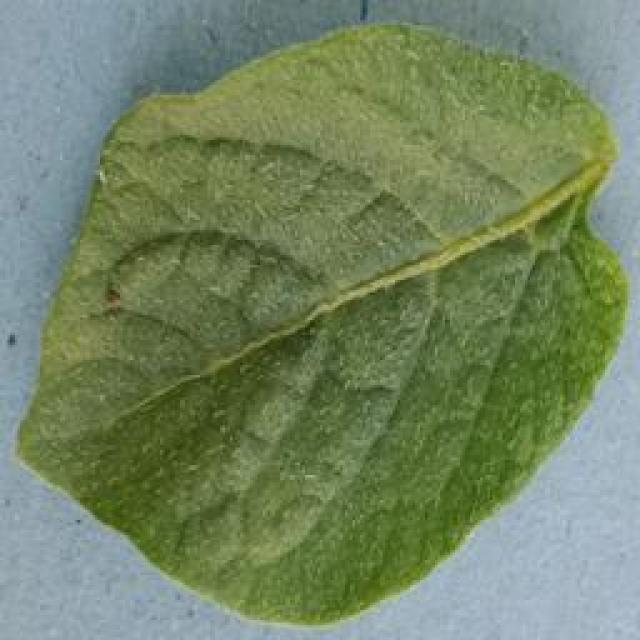Potato_Healthy: (4, 5, 632, 632)
